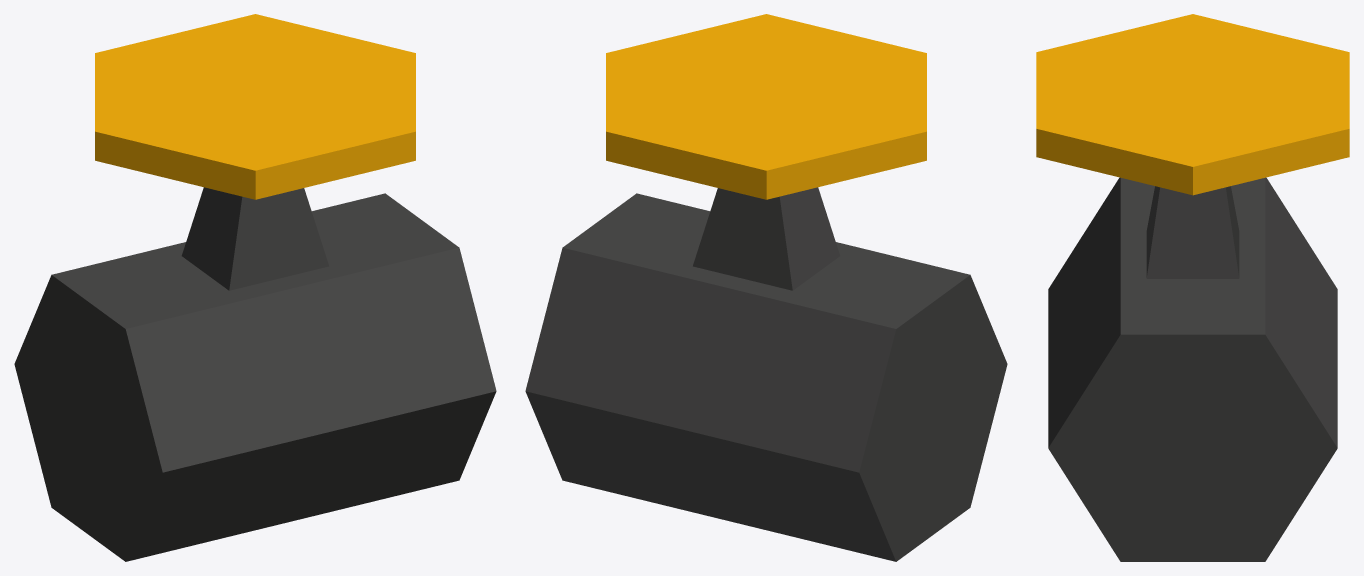
The model's file is valve_small.glb.
The picture shows the model from 3 angles, left to right: view 1: azimuth 30°, elevation 25°; view 2: azimuth 150°, elevation 25°; view 3: azimuth 270°, elevation 25°; orthographic projection. The views are drawn at different scales.
Parts seen in each view (by area): view 1: valve_small; view 2: valve_small; view 3: valve_small.
Boxes of the visible parts, <box> form: valve_small: <box>14,14,496,561</box>; valve_small: <box>525,14,1007,561</box>; valve_small: <box>1036,14,1349,561</box>.
Size of the model in its own units: 0.3 by 0.345 by 0.25.
